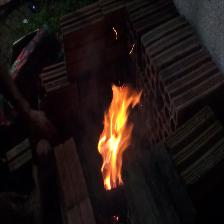fire: (91, 68, 153, 200)
